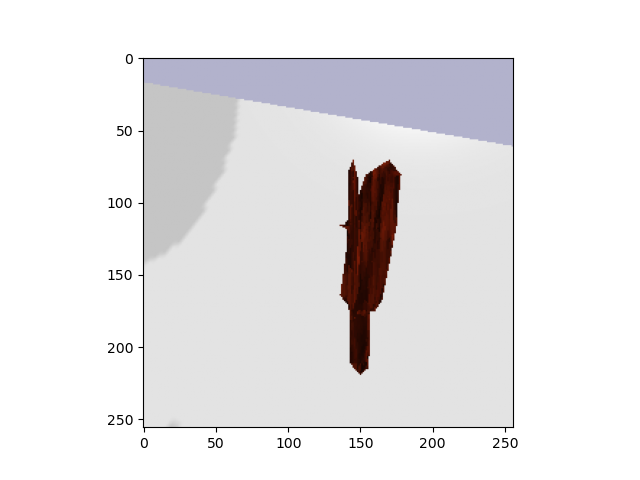v249b387_107: (326, 154, 407, 384)
